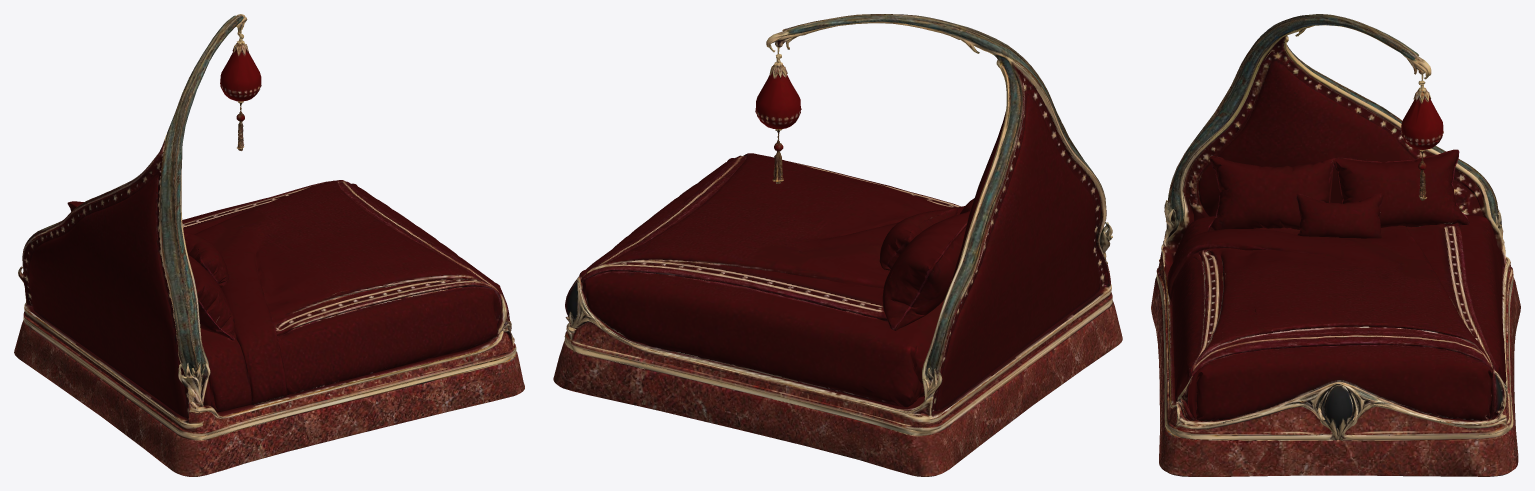
Rendered from NX-05_bed_game.glb.
The picture shows the model from 3 angles, left to right: view 1: azimuth 30°, elevation 25°; view 2: azimuth 150°, elevation 25°; view 3: azimuth 270°, elevation 25°; orthographic projection. The views are drawn at different scales.
Visible parts, largest first — view 1: NX-05_bed; view 2: NX-05_bed; view 3: NX-05_bed.
Boxes of the visible parts, x1=… form: NX-05_bed: x1=14, y1=14, x2=524, y2=476; NX-05_bed: x1=553, y1=14, x2=1122, y2=476; NX-05_bed: x1=1151, y1=14, x2=1520, y2=476.
Bounding box in the file's own units: 2.15 × 1.93 × 1.88.
1 material, 1 textured.
